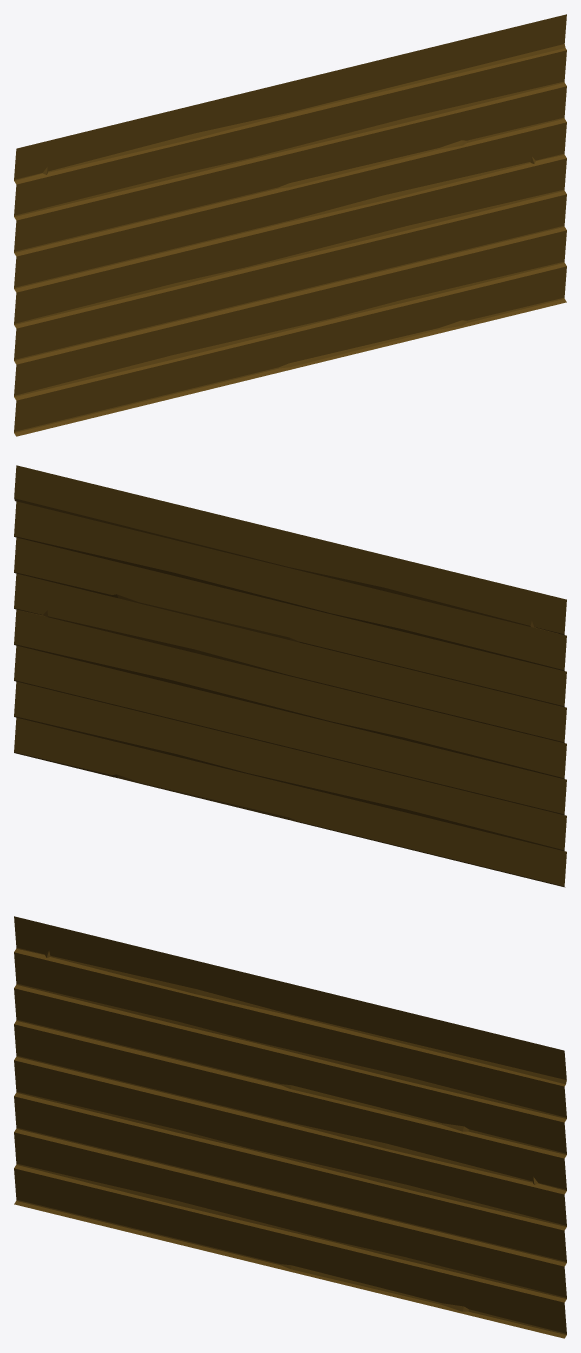
Rendered from BG_WoodPanel_01.fbx.
The picture shows the model from 3 angles, top to bottom: view 1: azimuth 30°, elevation 25°; view 2: azimuth 150°, elevation 25°; view 3: azimuth 330°, elevation 25°; orthographic projection.
Visible parts, largest first — view 1: BG_WoodPanel_01; view 2: BG_WoodPanel_01; view 3: BG_WoodPanel_01.
Part boxes in pixels (bbox=[...]): BG_WoodPanel_01: bbox=[14, 14, 566, 436]; BG_WoodPanel_01: bbox=[14, 465, 566, 887]; BG_WoodPanel_01: bbox=[14, 916, 566, 1338].
Bounding box in the file's own units: 80 × 40 × 0.5957.
Materials: 1 (1 with a texture image).
